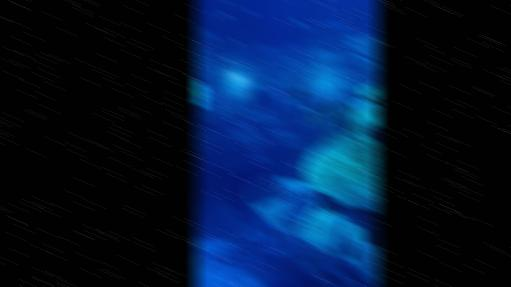Fish: (302, 101, 349, 126), (314, 101, 349, 122), (360, 208, 379, 245), (337, 106, 360, 135), (318, 192, 341, 213), (356, 85, 379, 103), (299, 249, 320, 265), (364, 124, 379, 143), (290, 88, 307, 101), (272, 190, 296, 199), (295, 147, 310, 158), (291, 17, 304, 28), (345, 244, 356, 257), (200, 110, 211, 121), (242, 9, 255, 15), (291, 117, 298, 128), (217, 13, 232, 18), (291, 165, 306, 170), (210, 12, 219, 20), (304, 24, 312, 33), (231, 38, 240, 44), (211, 35, 220, 40), (209, 52, 218, 57), (304, 77, 310, 84), (339, 11, 346, 16), (220, 0, 229, 3)
